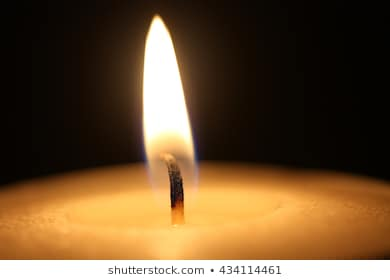Fire: (138, 14, 202, 181)
